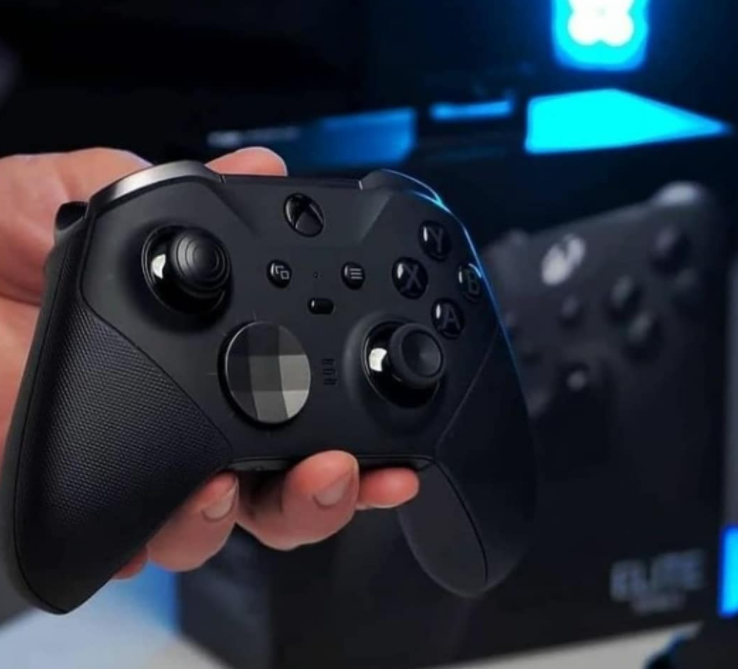gamingconsole: (11, 163, 542, 608)
